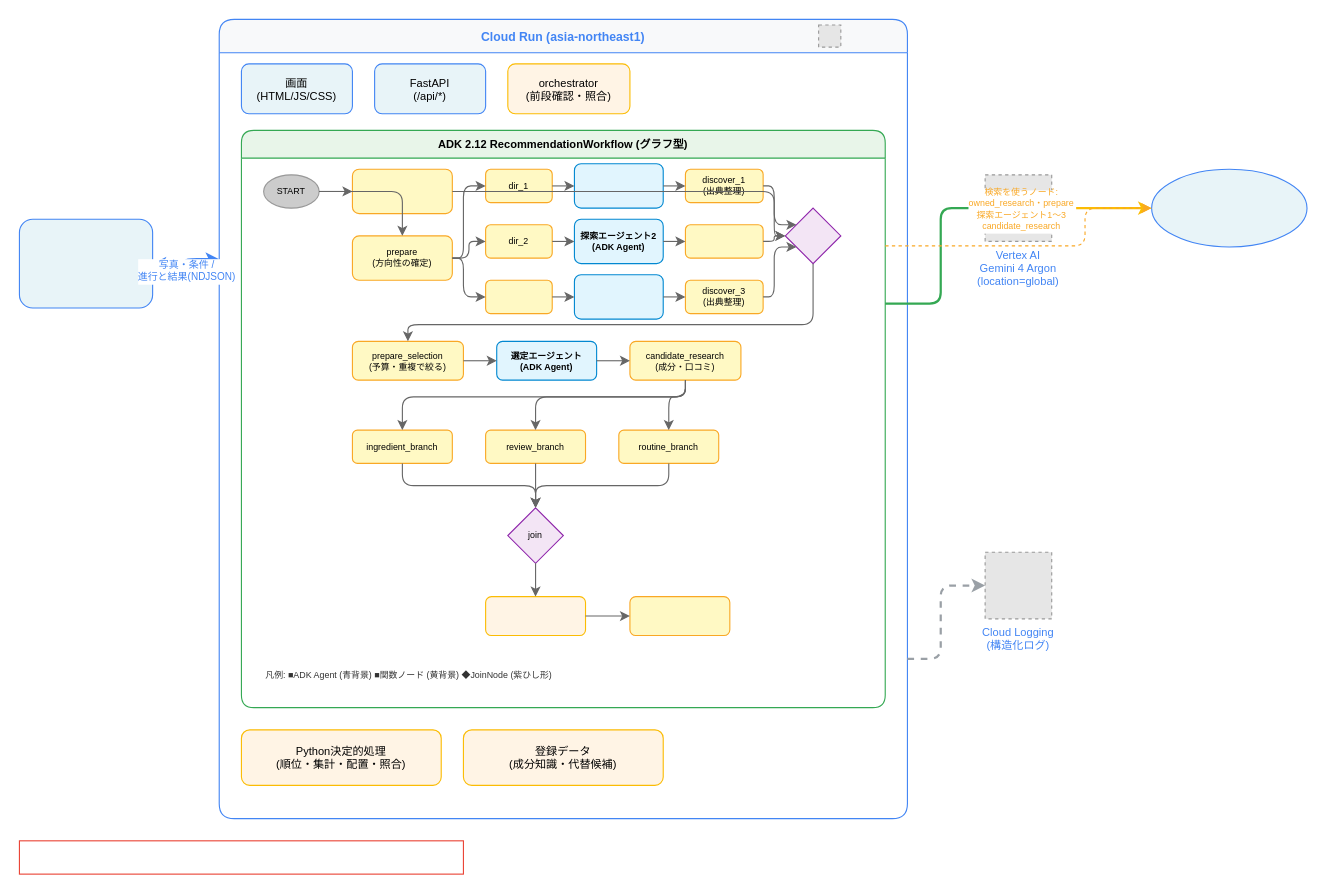
Image size: 1326x894. Some labels were removed from this diagram. Grey dashed boxes stand in for pictures. The shapes that lost their labels are listed below. From the top down, each one's centre as x and y in pixels, then its label:
(401,191): owned_research (手持ち全成分)
(618,185): 探索エージェント1 (ADK Agent)
(1229,207): Google検索連携 (Grounding with Google Search)
(723,241): discover_2 (出典整理)
(812,235): gather
(85,263): 利用者 ブラウザ
(518,296): dir_3
(618,296): 探索エージェント3 (ADK Agent)
(535,615): rank (Python順位)
(679,615): explain (推薦理由)
(240,857): ※ 順位・件数・価格はPythonが決め、Geminiには出力させない
